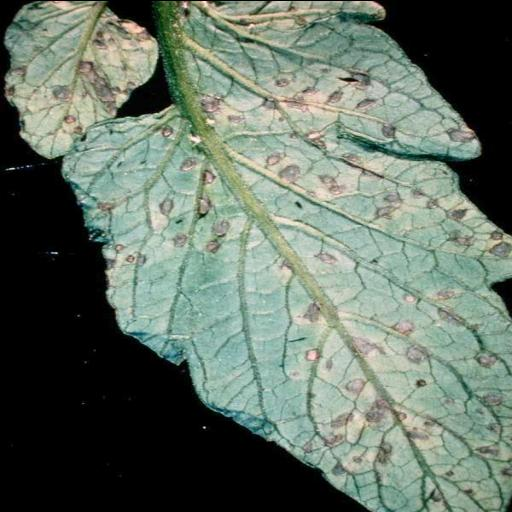Septoria: (56, 0, 512, 512), (0, 0, 159, 157)
